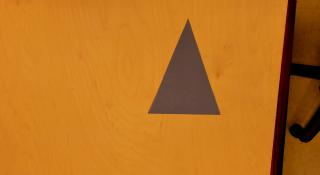Triangle: (148, 19, 221, 115)
